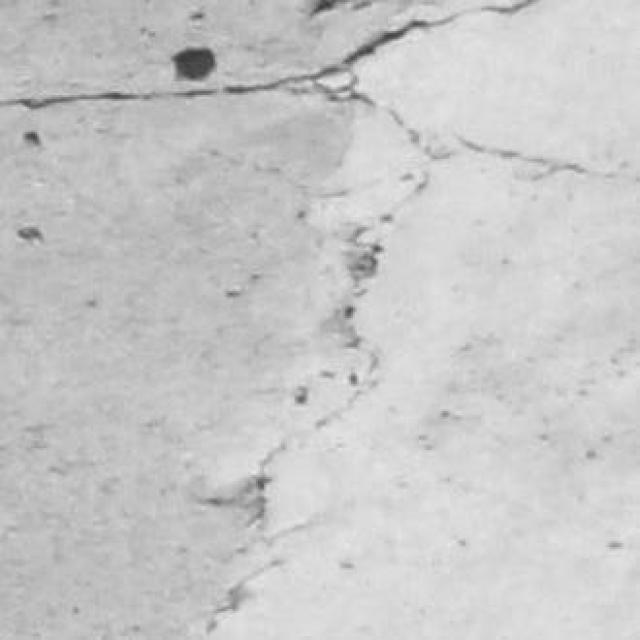crack: (0, 0, 541, 108), (456, 136, 639, 182), (194, 444, 283, 526), (326, 229, 382, 359), (206, 559, 283, 634), (370, 99, 452, 159)
